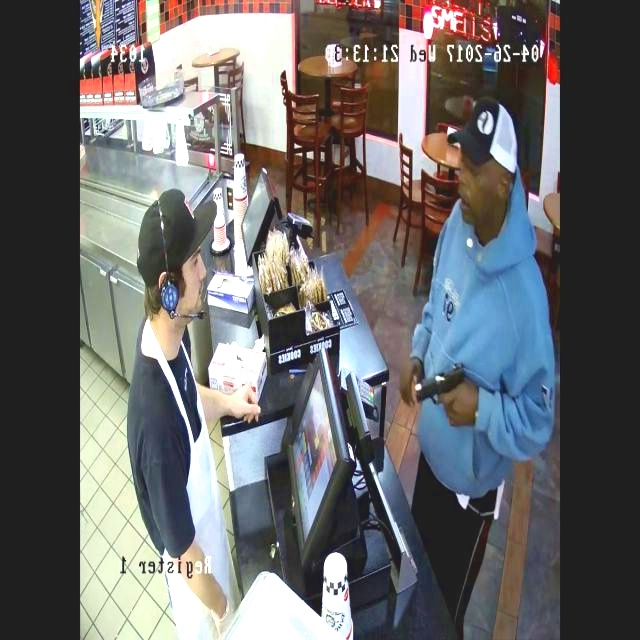gun: (408, 351, 479, 416)
